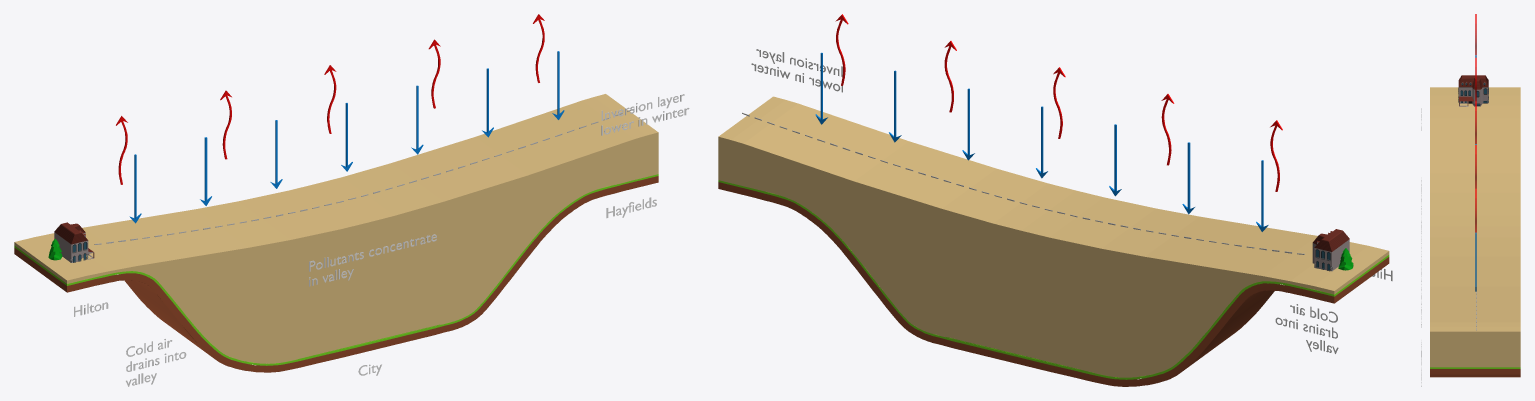
Rendered from terrestrial-radiation-optimized.glb.
The picture shows the model from 3 angles, left to right: view 1: azimuth 30°, elevation 25°; view 2: azimuth 150°, elevation 25°; view 3: azimuth 270°, elevation 25°; orthographic projection. The views are drawn at different scales.
Parts seen in each view (by area): view 1: Plane.001, Plane, Blue_Arrows, Red_Arrows, Low Poly House, Pollutants, Inversion, Cold Air, BézierCurve; view 2: Plane.001, Plane, Blue_Arrows, Red_Arrows, Low Poly House, Inversion, Cold Air, BézierCurve; view 3: Plane.001, Plane, Low Poly House, Red_Arrows, Blue_Arrows.
Part boxes in pixels (<box>): Plane.001: <box>14,94,658,363</box>; Plane: <box>14,174,658,372</box>; Blue_Arrows: <box>129,51,564,223</box>; Red_Arrows: <box>116,14,544,184</box>; Low Poly House: <box>54,222,94,262</box>; Pollutants: <box>309,234,436,286</box>; Inversion: <box>601,94,689,135</box>; Cold Air: <box>126,338,186,386</box>; BézierCurve: <box>94,108,634,244</box>; Plane.001: <box>718,96,1389,377</box>; Plane: <box>718,180,1389,386</box>; Blue_Arrows: <box>815,52,1268,231</box>; Red_Arrows: <box>835,14,1282,191</box>; Low Poly House: <box>1312,229,1349,271</box>; Inversion: <box>751,49,842,92</box>; Cold Air: <box>1275,304,1338,353</box>; BézierCurve: <box>742,112,1304,254</box>; Plane.001: <box>1430,87,1520,367</box>; Plane: <box>1430,367,1520,377</box>; Low Poly House: <box>1458,75,1488,106</box>; Red_Arrows: <box>1475,14,1476,232</box>; Blue_Arrows: <box>1475,55,1476,291</box>.
Bounding box in the file's own units: 393 × 177 × 63.68.
